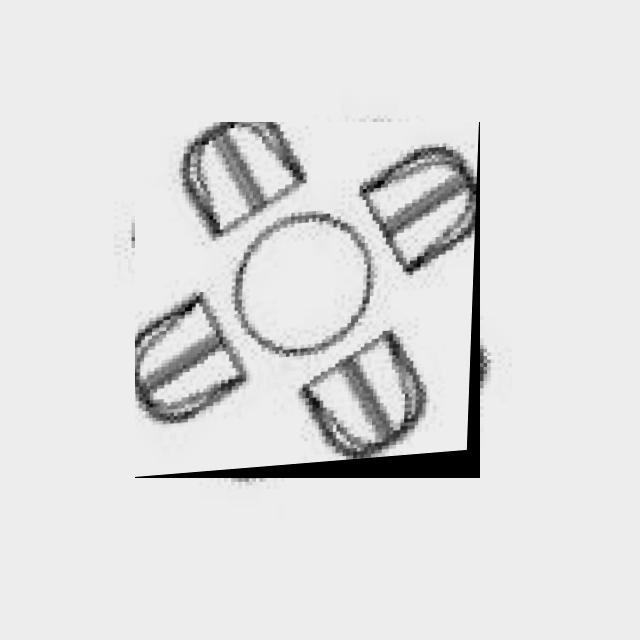table: (135, 122, 480, 478)
